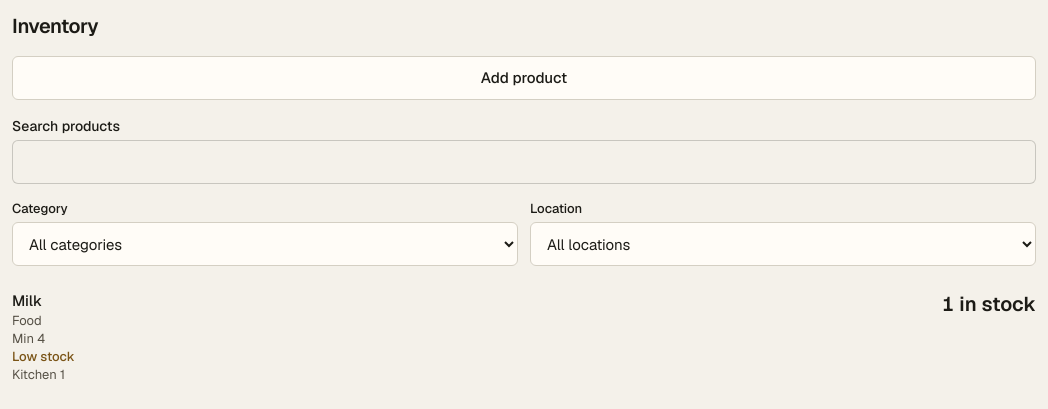
Scenario: InventoryOverviewScreen › shows the empty match copy when filters return nothing
The width and height of the screenshot is (1048, 409).
Expected: the link "Milk" is shown, [12,282,1036,392]
Type "zzz" into the field labelled "Search products" at (524, 162), box [12,140,1036,184]
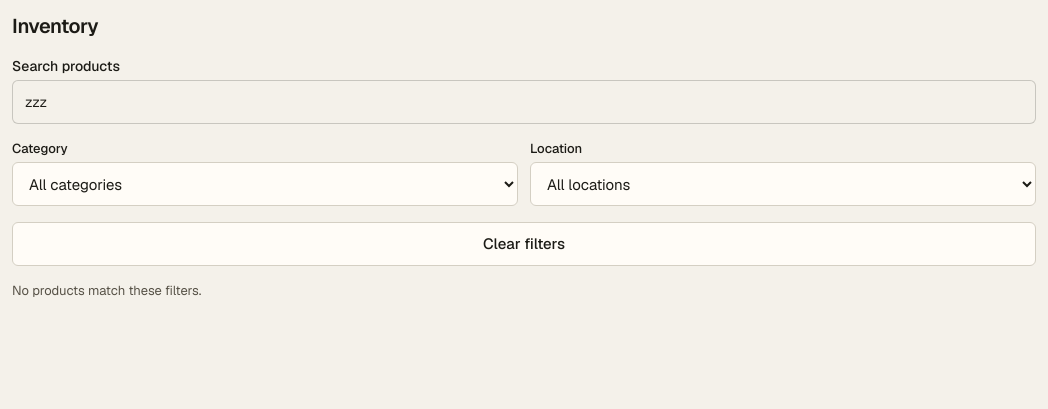
Now the text "No products match these filters." is shown, box [12,282,201,299]
Now the button "Add product" is gone
